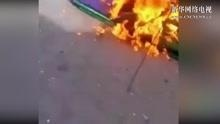fire: (95, 0, 181, 58)
